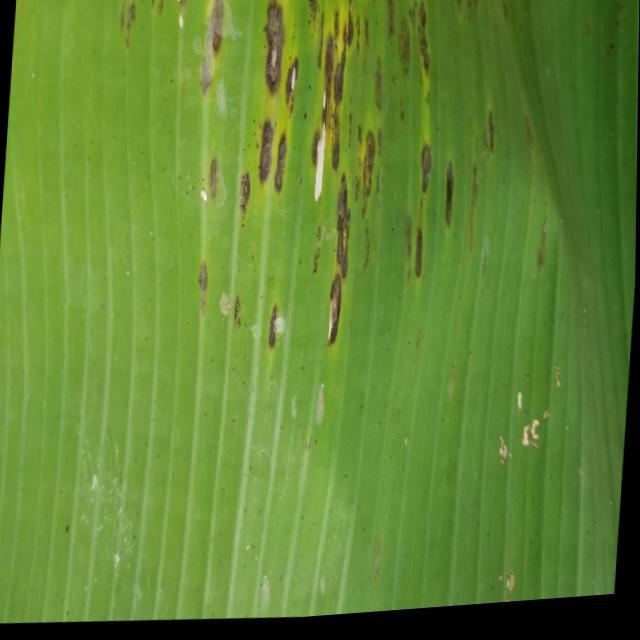Early_rust: (87, 0, 517, 372)
